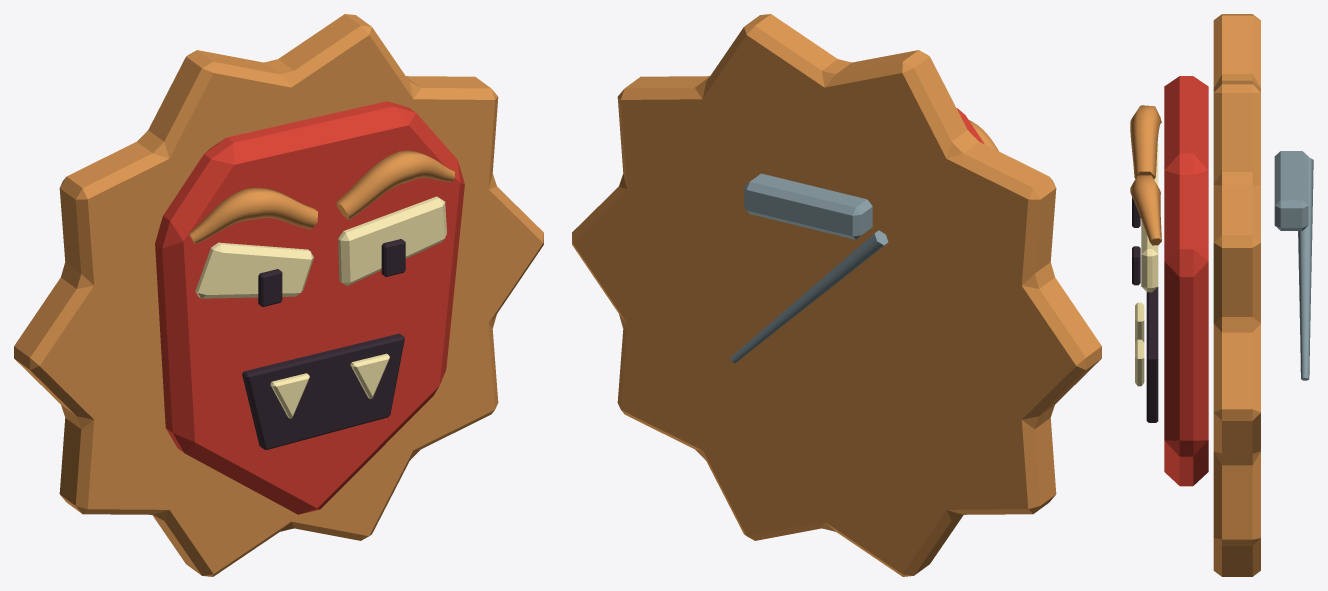
File: provoke_badge.obj
3 renders of one model, left to right at view 1: azimuth 30°, elevation 25°; view 2: azimuth 150°, elevation 25°; view 3: azimuth 270°, elevation 25°, orthographic. The views are drawn at different scales.
Visible parts, largest first — view 1: A_SunburstMount.001_provoke_badge_bronze, B_EnamelMask.001_provoke_badge_red_enamel, D_MouthRecess.001_provoke_badge_recesses, C_Eye_1.001_provoke_badge_ivory, C_Eye_-1.001_provoke_badge_ivory, C_AngryBrow_-1.001_provoke_badge_bronze, C_AngryBrow_1.001_provoke_badge_bronze, D_Tooth_1.001_provoke_badge_ivory, D_Tooth_-1.001_provoke_badge_ivory, C_Pupil_-1.001_provoke_badge_recesses, C_Pupil_1.001_provoke_badge_recesses; view 2: A_SunburstMount.001_provoke_badge_bronze, E_PinHinge.001_provoke_badge_back_pin, E_Pin.001_provoke_badge_back_pin; view 3: A_SunburstMount.001_provoke_badge_bronze, B_EnamelMask.001_provoke_badge_red_enamel, E_PinHinge.001_provoke_badge_back_pin, E_Pin.001_provoke_badge_back_pin, C_AngryBrow_-1.001_provoke_badge_bronze, D_MouthRecess.001_provoke_badge_recesses, C_AngryBrow_1.001_provoke_badge_bronze, C_Eye_1.001_provoke_badge_ivory, D_Tooth_1.001_provoke_badge_ivory, D_Tooth_-1.001_provoke_badge_ivory, C_Pupil_1.001_provoke_badge_recesses.
Part boxes in pixels (<box>): A_SunburstMount.001_provoke_badge_bronze: <box>14,14,543,576</box>; B_EnamelMask.001_provoke_badge_red_enamel: <box>155,101,464,514</box>; D_MouthRecess.001_provoke_badge_recesses: <box>242,333,404,449</box>; C_Eye_1.001_provoke_badge_ivory: <box>338,196,446,285</box>; C_Eye_-1.001_provoke_badge_ivory: <box>195,242,313,298</box>; C_AngryBrow_-1.001_provoke_badge_bronze: <box>189,188,317,244</box>; C_AngryBrow_1.001_provoke_badge_bronze: <box>336,150,455,219</box>; D_Tooth_1.001_provoke_badge_ivory: <box>350,353,389,399</box>; D_Tooth_-1.001_provoke_badge_ivory: <box>270,373,309,418</box>; C_Pupil_-1.001_provoke_badge_recesses: <box>258,269,282,306</box>; C_Pupil_1.001_provoke_badge_recesses: <box>381,239,405,276</box>; A_SunburstMount.001_provoke_badge_bronze: <box>572,14,1101,576</box>; E_PinHinge.001_provoke_badge_back_pin: <box>744,173,872,239</box>; E_Pin.001_provoke_badge_back_pin: <box>730,230,888,363</box>; A_SunburstMount.001_provoke_badge_bronze: <box>1213,14,1260,576</box>; B_EnamelMask.001_provoke_badge_red_enamel: <box>1164,76,1208,486</box>; E_PinHinge.001_provoke_badge_back_pin: <box>1274,151,1308,230</box>; E_Pin.001_provoke_badge_back_pin: <box>1298,157,1313,380</box>; C_AngryBrow_-1.001_provoke_badge_bronze: <box>1130,105,1161,179</box>; D_MouthRecess.001_provoke_badge_recesses: <box>1146,287,1158,422</box>; C_AngryBrow_1.001_provoke_badge_bronze: <box>1130,175,1161,245</box>; C_Eye_1.001_provoke_badge_ivory: <box>1141,222,1158,292</box>; D_Tooth_1.001_provoke_badge_ivory: <box>1135,339,1144,386</box>; D_Tooth_-1.001_provoke_badge_ivory: <box>1135,302,1144,342</box>; C_Pupil_1.001_provoke_badge_recesses: <box>1132,246,1140,285</box>.
Size of the model in its own units: 1.67 by 1.6 by 0.5405.
